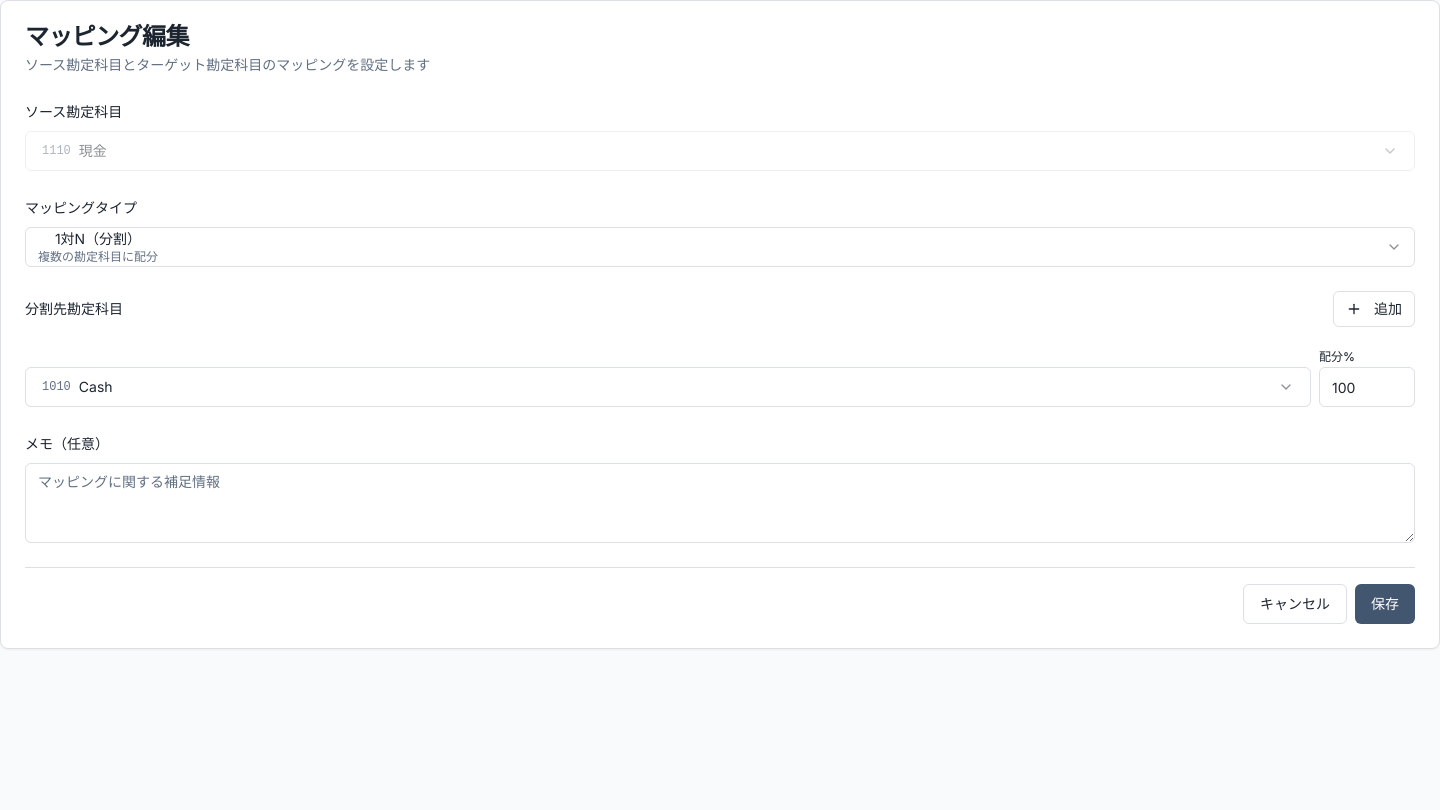
it: conversion/mapping-editor — 1toN split mapping › toggles the 100% warning and disables save when the split sum is wrong
The width and height of the screenshot is (1440, 810).
Expected: the text "配分の合計が100%になりません" is not shown
Expected: the button "保存" is enabled, [1355,584,1415,624]
Replace the text in the number field with "50" at (1367, 387), box [1319,367,1415,407]
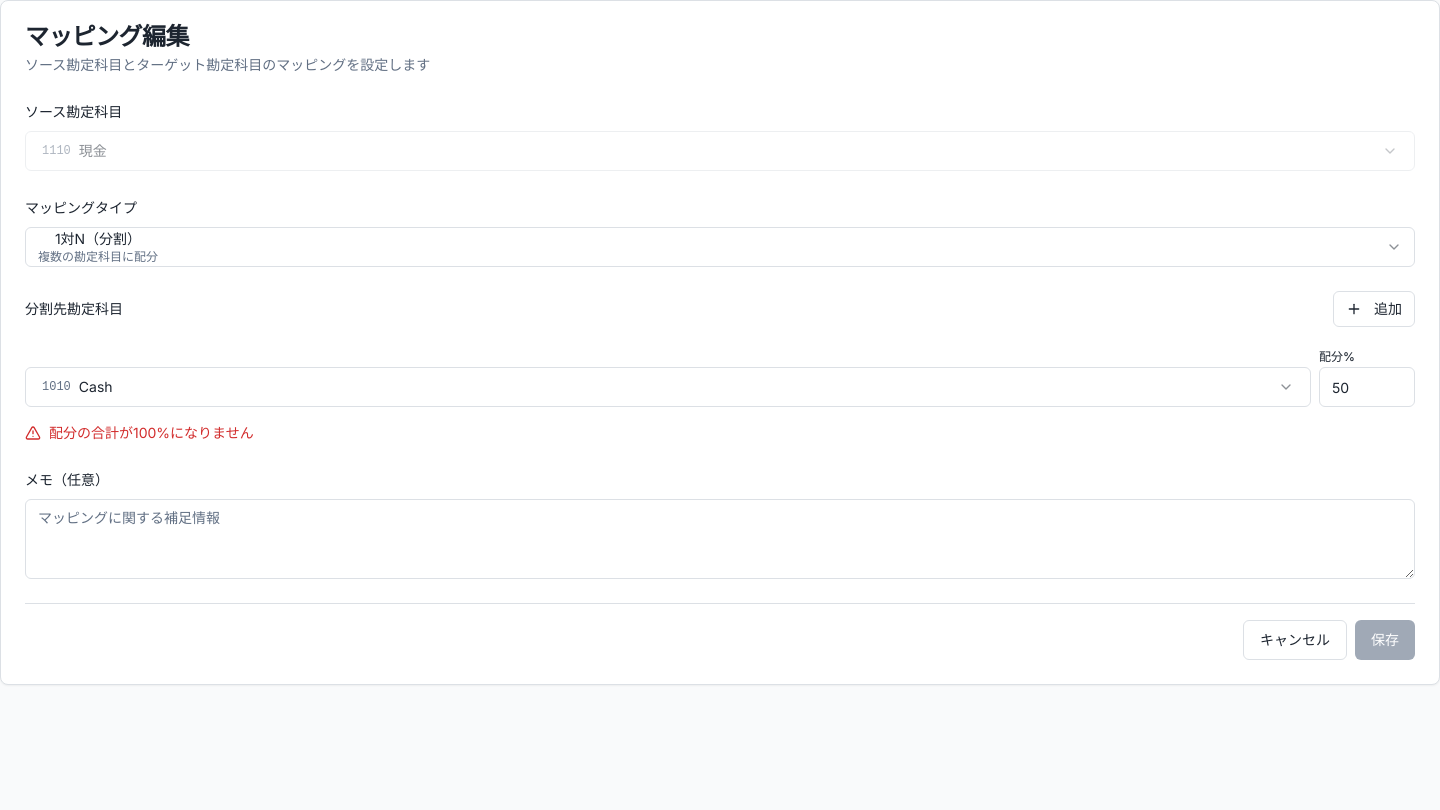
Expected: the text "配分の合計が100%になりません" is shown, [49,423,254,443]
Expected: the button "保存" is disabled, [1355,620,1415,660]
Replace the text in the number field with "100" at (1367, 387), box [1319,367,1415,407]
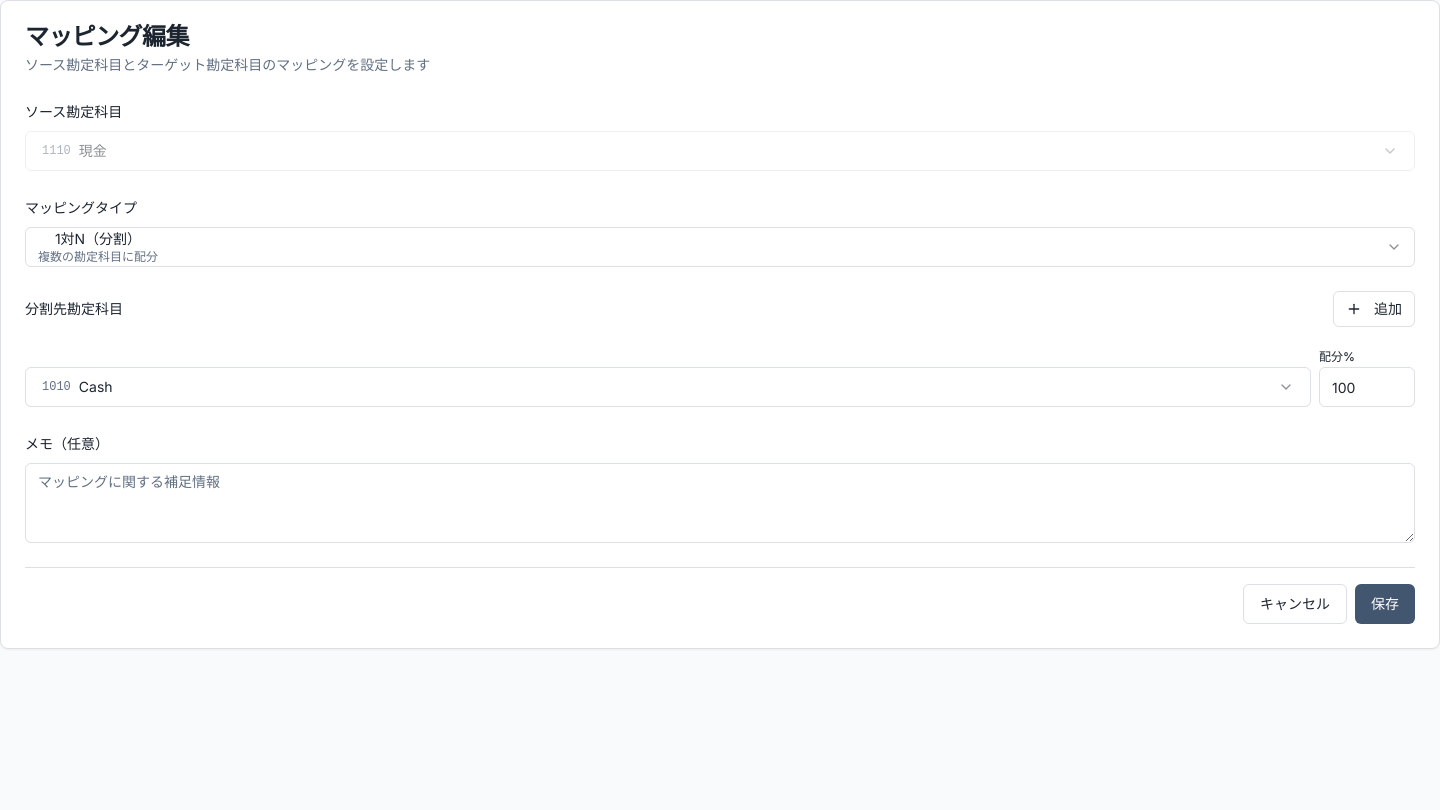
Expected: the text "配分の合計が100%になりません" is gone
Expected: the button "保存" is enabled, [1355,584,1415,624]
